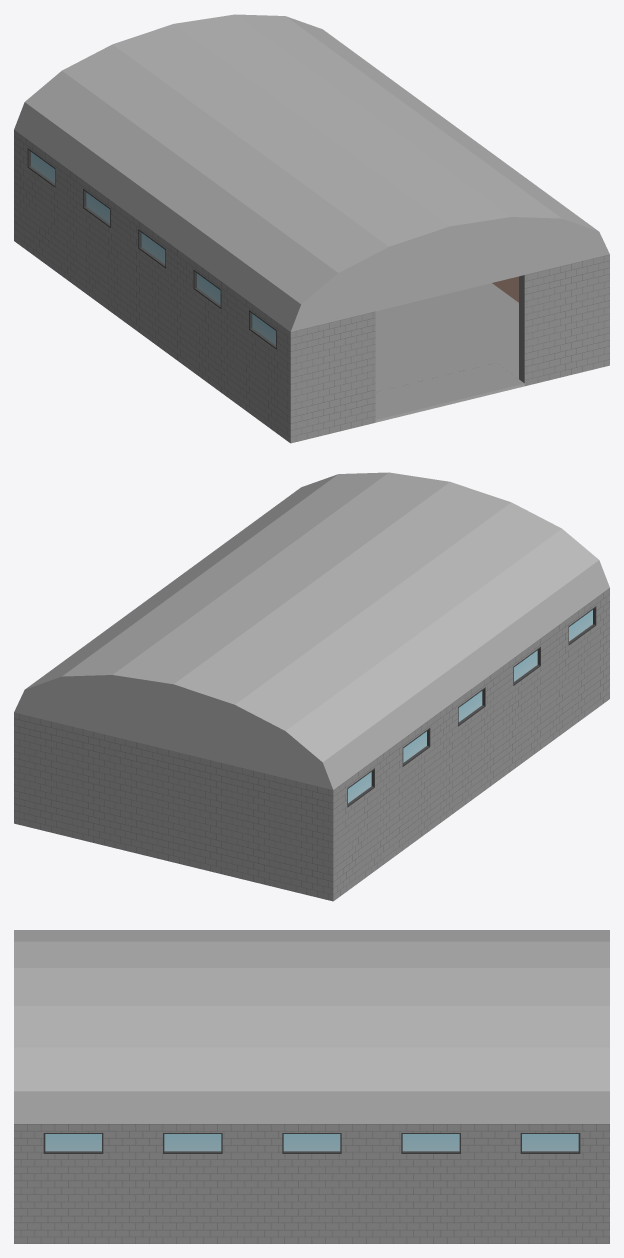
File: SM_Bld_RobotBase_Hangar.fbx
3 renders of one model, top to bottom at view 1: azimuth 30°, elevation 25°; view 2: azimuth 150°, elevation 25°; view 3: azimuth 270°, elevation 25°, orthographic. The views are drawn at different scales.
Visible parts, largest first — view 1: SM_Bld_RobotBase_Hangar; view 2: SM_Bld_RobotBase_Hangar; view 3: SM_Bld_RobotBase_Hangar.
Part boxes in pixels (box(x1,y1,x2,y2)): SM_Bld_RobotBase_Hangar: box(14, 14, 609, 443); SM_Bld_RobotBase_Hangar: box(14, 472, 609, 901); SM_Bld_RobotBase_Hangar: box(14, 930, 609, 1243).
Bounding box in the file's own units: 12 × 6.4 × 18.
3 materials, 3 textured.
